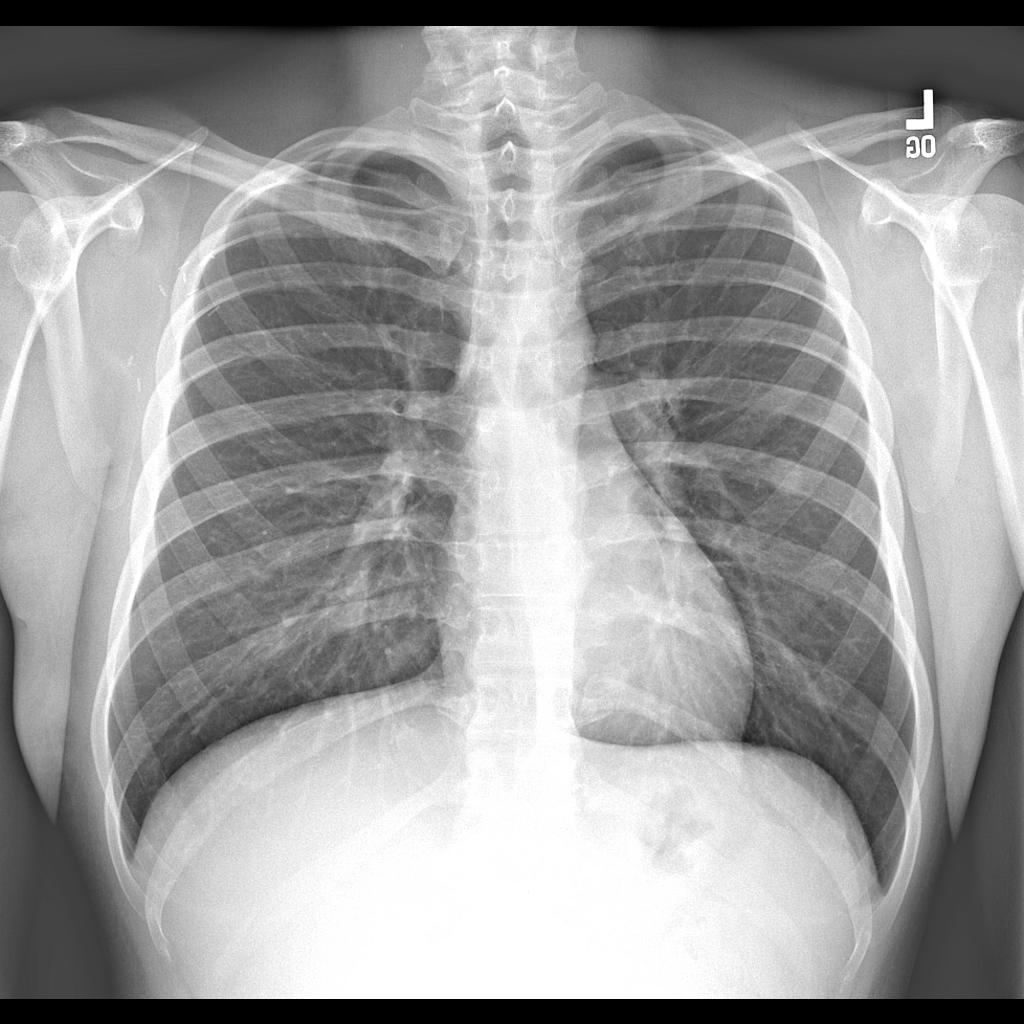Nodule: (764, 456, 813, 500)
